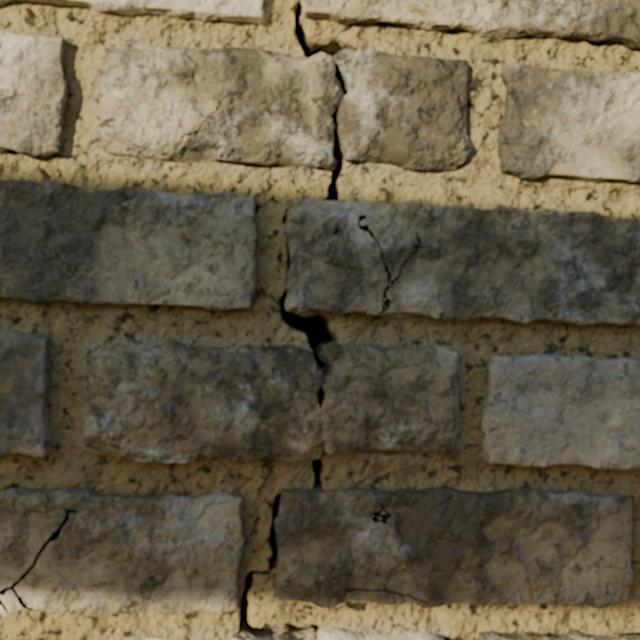broken_brick: (84, 338, 460, 462), (99, 41, 342, 169), (337, 49, 472, 171), (319, 627, 443, 639), (216, 636, 260, 639), (116, 637, 162, 639)
crack: (279, 0, 639, 377), (0, 458, 634, 639), (0, 181, 258, 310), (482, 354, 639, 469), (497, 62, 639, 182), (0, 31, 67, 158), (0, 331, 51, 456), (0, 0, 263, 24), (178, 93, 227, 144), (477, 630, 639, 639), (316, 387, 325, 408), (184, 155, 203, 159), (168, 158, 179, 161), (320, 444, 324, 451)
